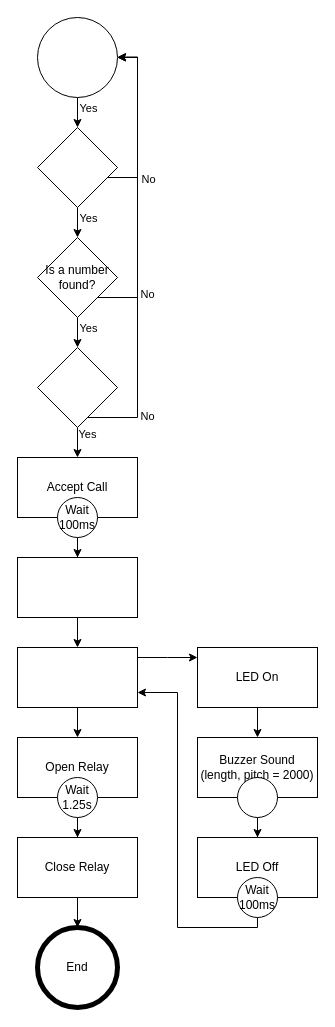
Image size: 335x1027. Some labels were removed from this diagram. Here are the shapes that lost their labels. From the top down, the centre of each, then its label:
(77,57): Start
(77,167): ls "ring"ing?
(77,387): Is the number right?
(77,587): End Call
(77,677): LED Beep Sequense 4x (20,500:10,100:5,80: 1.0)
(257,797): Wait %ms
